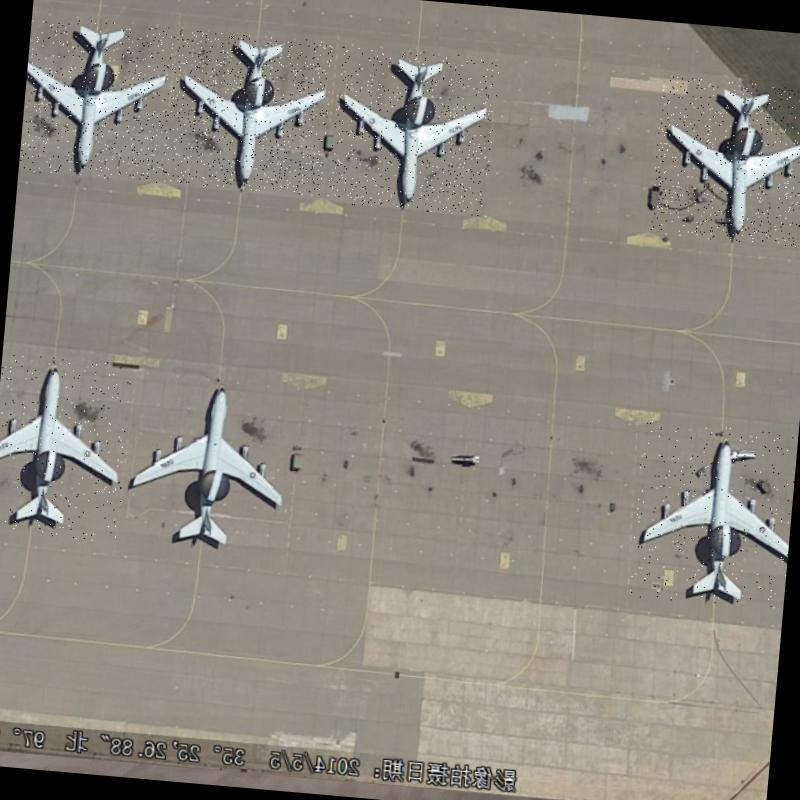A7: (628, 420, 798, 610), (122, 374, 299, 552), (327, 44, 500, 216), (160, 28, 334, 196), (19, 16, 176, 184), (649, 75, 800, 248), (0, 353, 133, 543)
